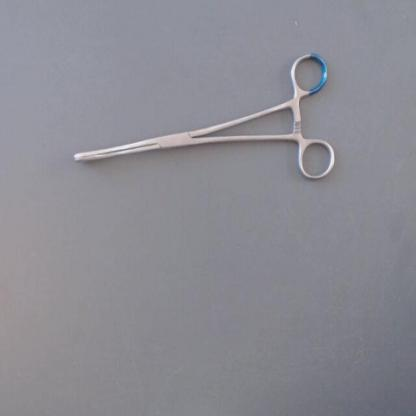Sponge Forceps: (69, 43, 336, 185)
